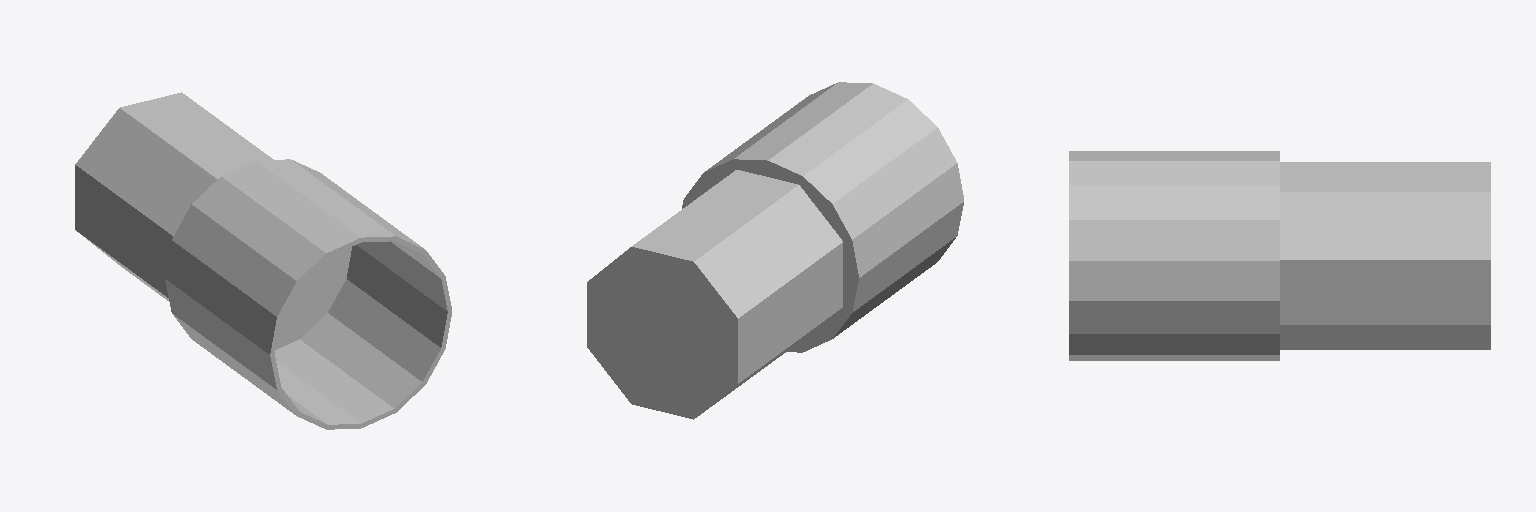
The model's file is Telescope.obj.
The picture shows the model from 3 angles: view 1: azimuth 30°, elevation 25°; view 2: azimuth 150°, elevation 25°; view 3: azimuth 270°, elevation 25°; orthographic projection.
Visible parts, largest first — view 1: Observatory; view 2: Observatory; view 3: Observatory.
Boxes of the visible parts, box(x1,y1,x2,y2) form: Observatory: box(75, 92, 451, 429); Observatory: box(587, 82, 963, 419); Observatory: box(1069, 151, 1490, 360).
Size of the model in its own units: 2 by 2 by 4.